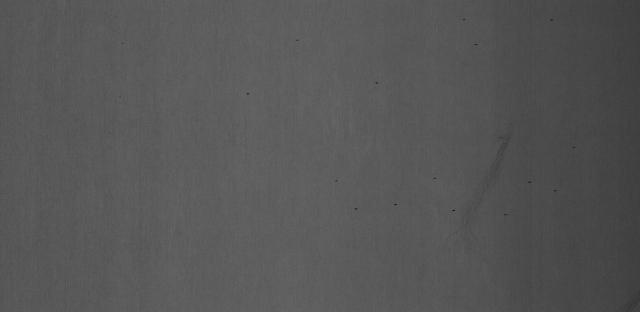inclusion: (524, 176, 558, 197), (388, 199, 405, 211)
water_spot: (448, 125, 520, 234)
